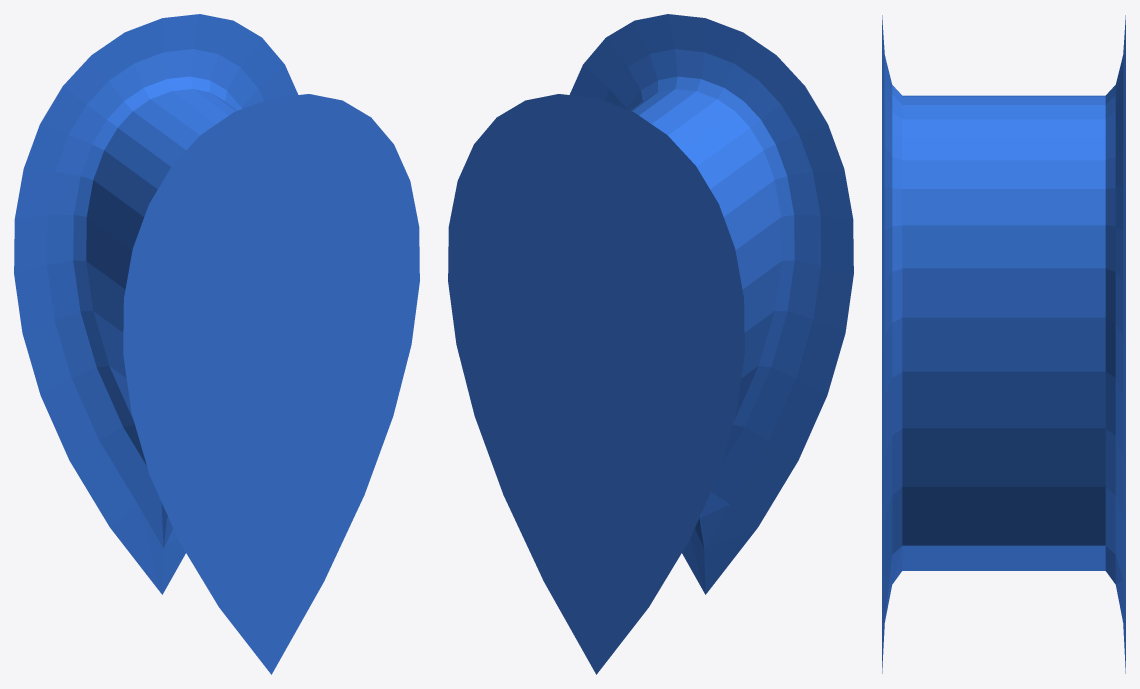
File: Dynamic_3D_Component.glb
3 renders of one model, left to right at view 1: azimuth 30°, elevation 25°; view 2: azimuth 150°, elevation 25°; view 3: azimuth 270°, elevation 25°, orthographic. The views are drawn at different scales.
Size of the model in its own units: 0.3767 by 0.7 by 0.24.
